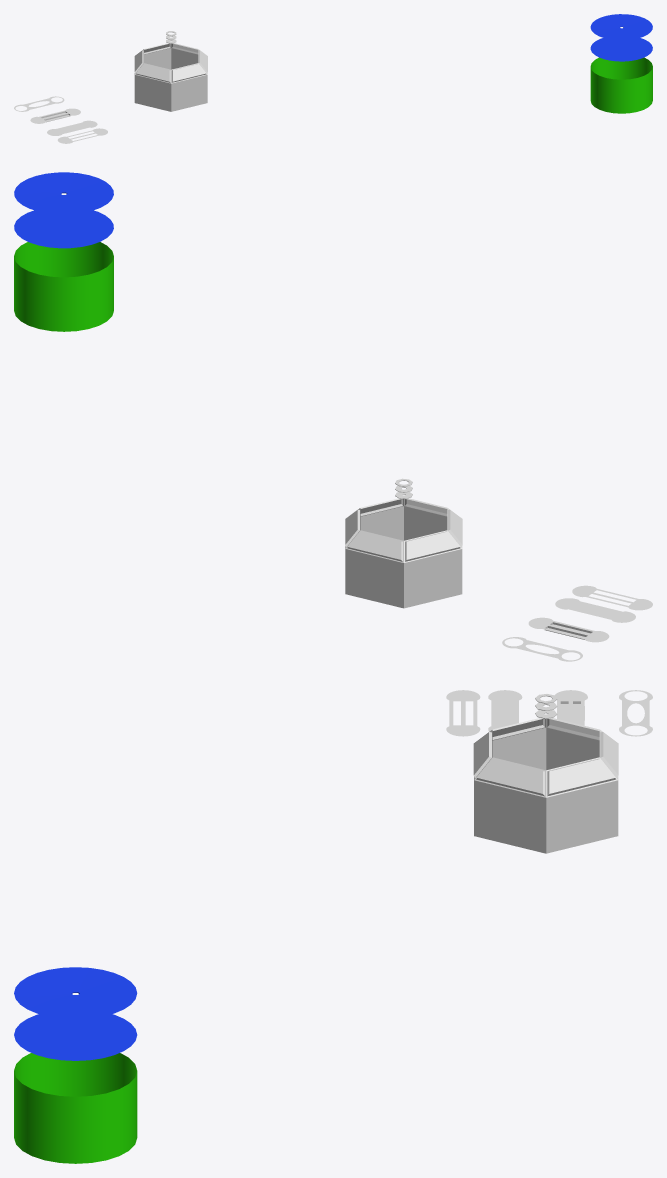
The model's file is Central Level Hole.FBX.
The picture shows the model from 3 angles, top to bottom: view 1: azimuth 30°, elevation 25°; view 2: azimuth 150°, elevation 25°; view 3: azimuth 270°, elevation 25°; orthographic projection. The views are drawn at different scales.
Visible parts, largest first — view 1: Gengon001, Cylinder001, Circle008, Circle007, Circle004, Circle002, Circle005, Circle003; view 2: Gengon001, Cylinder001, Circle008, Circle007, Circle004, Circle002, Circle005; view 3: Gengon001, Cylinder001, Circle008, Circle007, Circle002, Circle005, Circle004, Circle003.
Boxes of the visible parts, x1,y1,x2,y2 form: Gengon001: (134, 43, 207, 111); Cylinder001: (590, 57, 652, 113); Circle008: (590, 14, 652, 40); Circle007: (590, 38, 652, 61); Circle004: (30, 108, 80, 123); Circle002: (47, 120, 97, 135); Circle005: (57, 128, 107, 143); Circle003: (14, 96, 64, 111); Gengon001: (345, 498, 462, 608); Cylinder001: (14, 242, 113, 331); Circle008: (14, 172, 113, 214); Circle007: (14, 210, 113, 248); Circle004: (528, 617, 609, 642); Circle002: (555, 598, 635, 622); Circle005: (572, 585, 652, 610); Gengon001: (473, 718, 618, 853); Cylinder001: (14, 1053, 137, 1163); Circle008: (14, 967, 137, 1019); Circle007: (14, 1014, 137, 1060); Circle002: (488, 690, 522, 731); Circle005: (446, 690, 480, 736); Circle004: (554, 690, 587, 725); Circle003: (619, 690, 652, 736).
Bounding box in the file's own units: 909 × 132 × 518.
